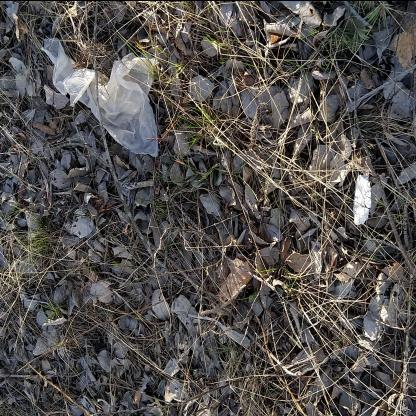kopuk: (353, 174, 373, 226)
plastik: (43, 36, 161, 160)
